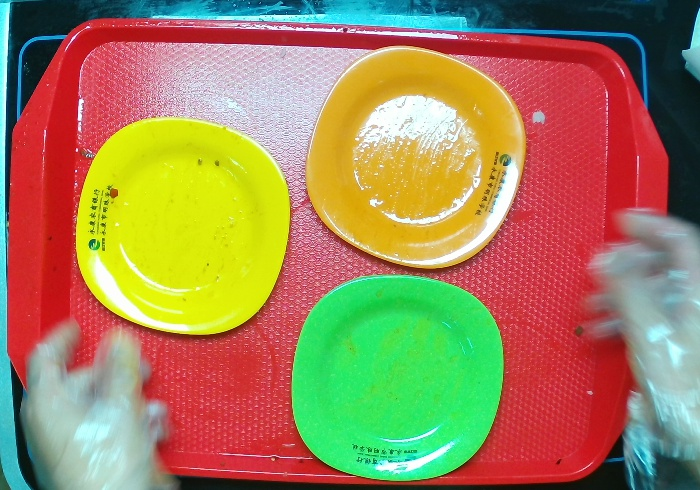YKMZ-Huang_Se_Fang_Die: (70, 113, 294, 343)
YKMZ-Ju_Se_Fang_Die: (303, 43, 536, 273)
YKMZ-Lv_Se_Fang_Die: (288, 272, 515, 482)
